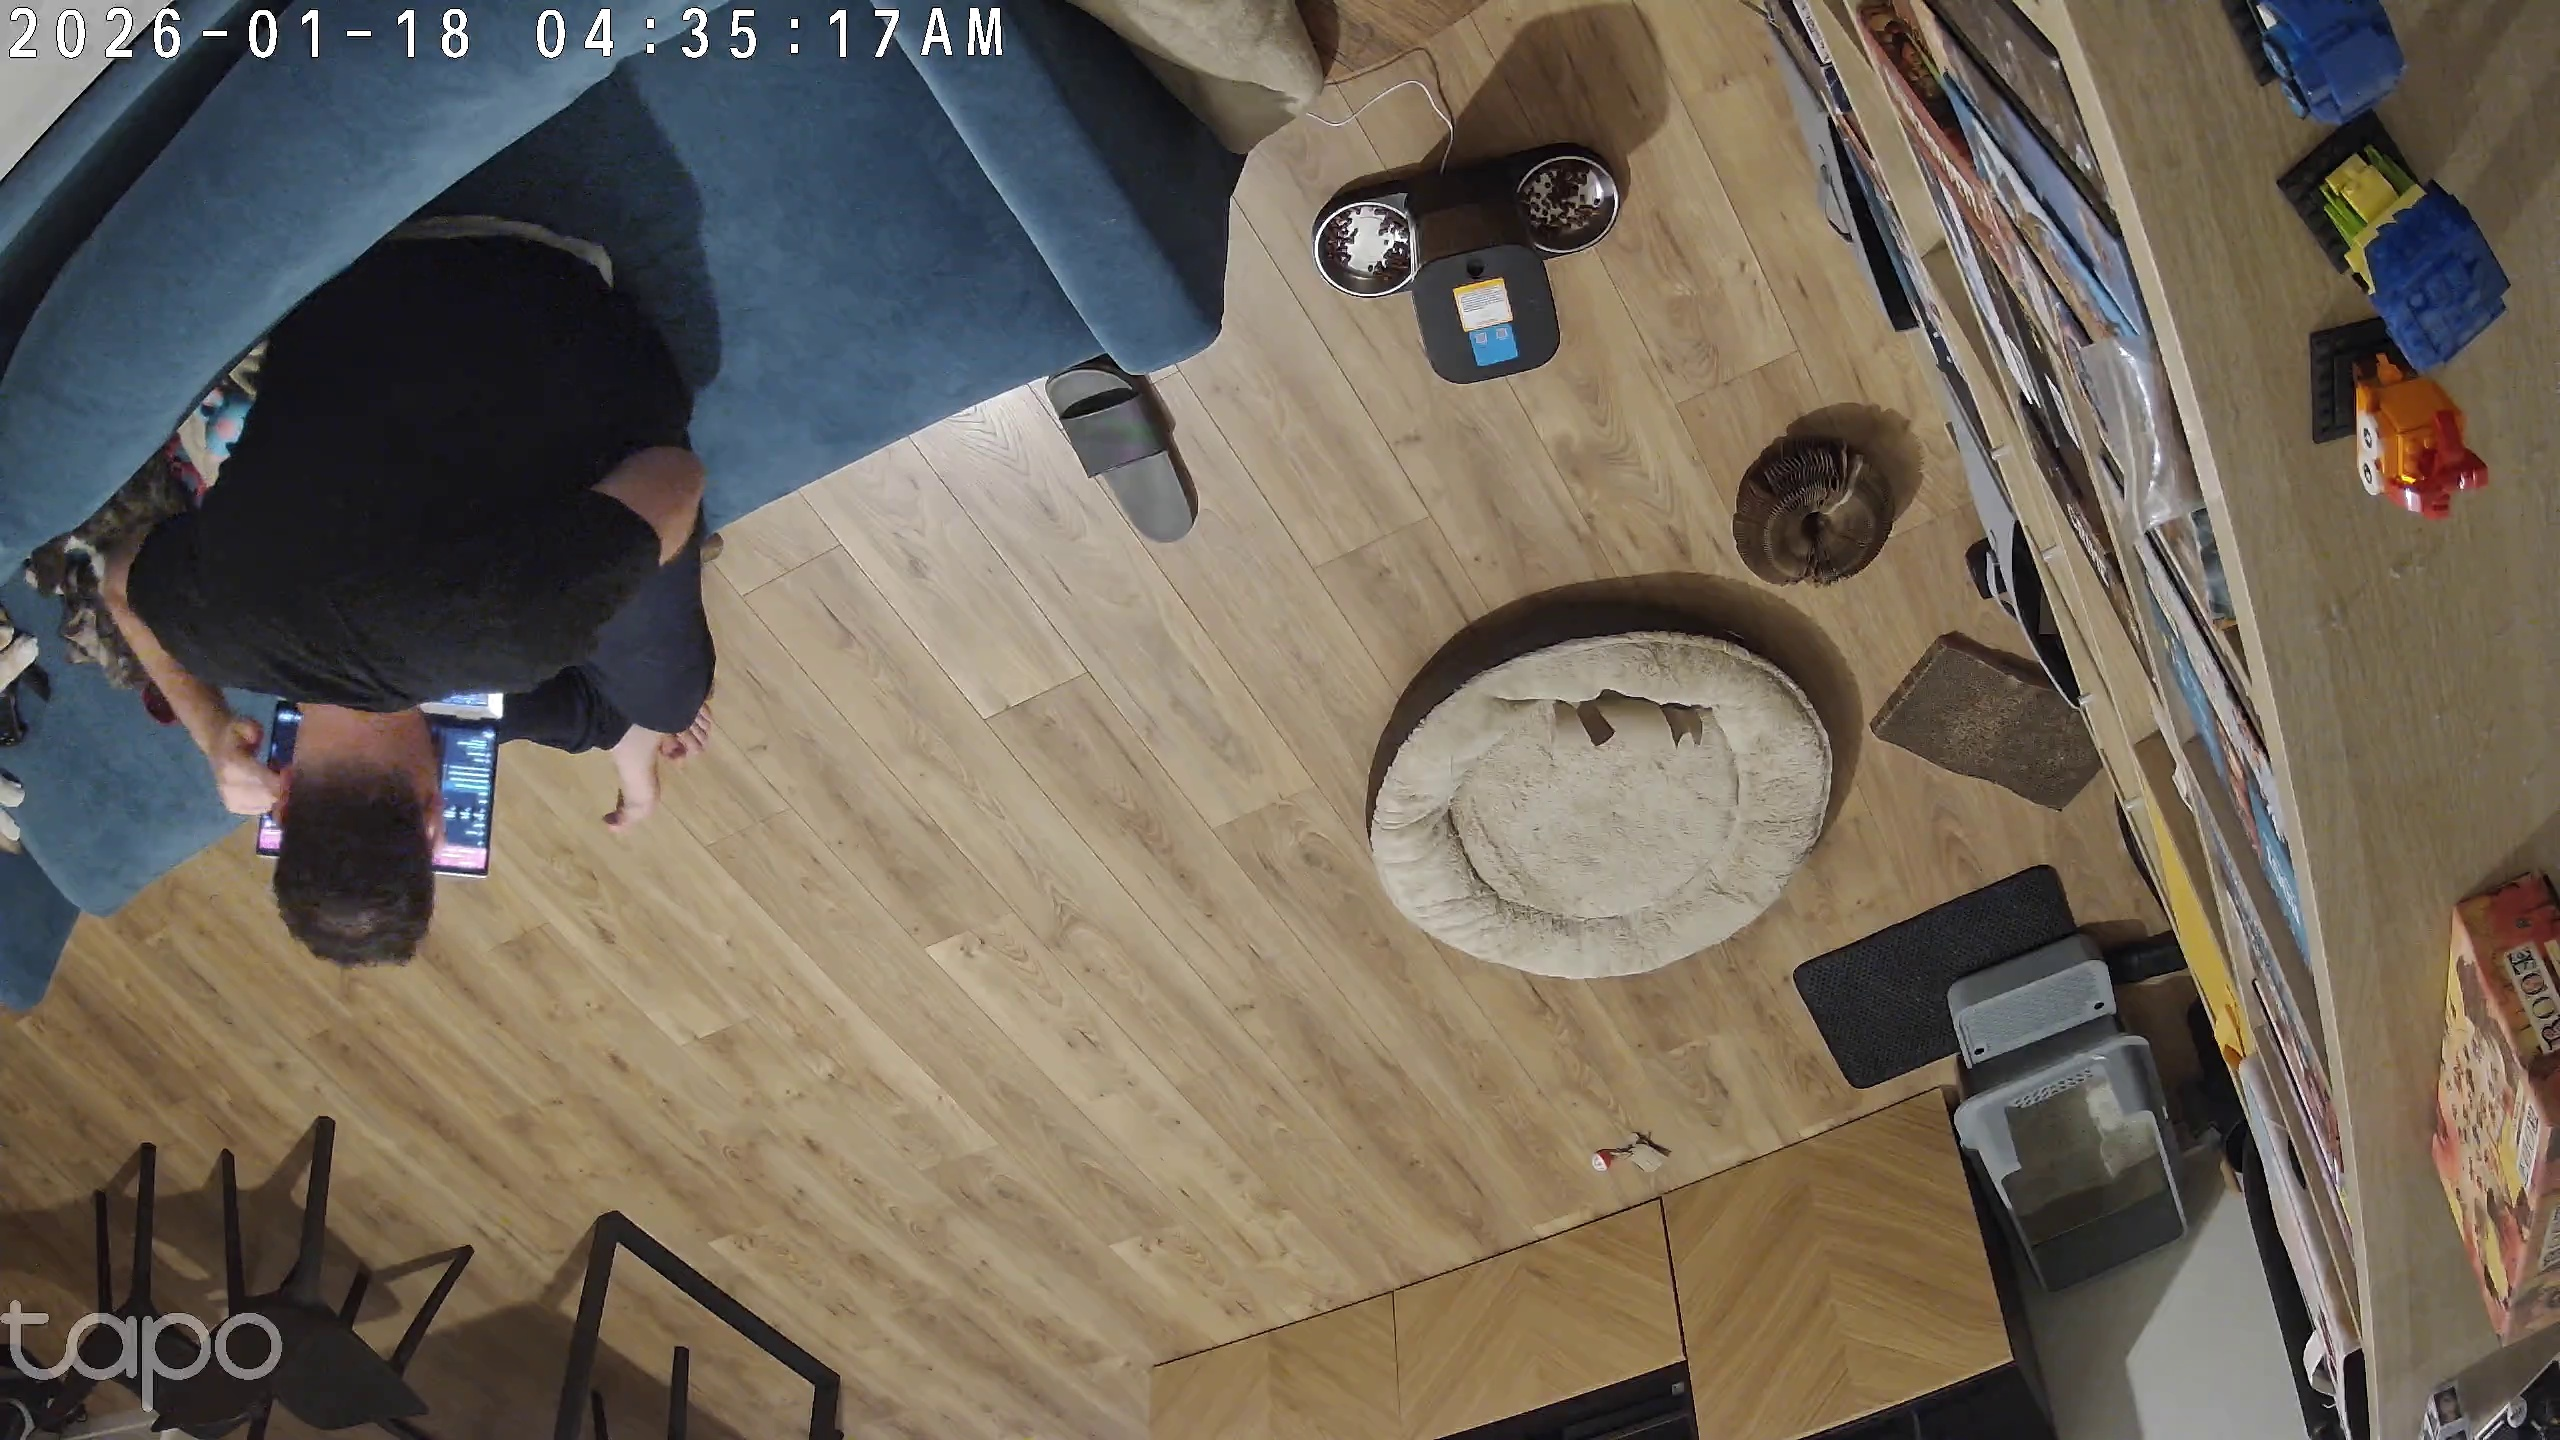Nala: (37, 441, 204, 737)
